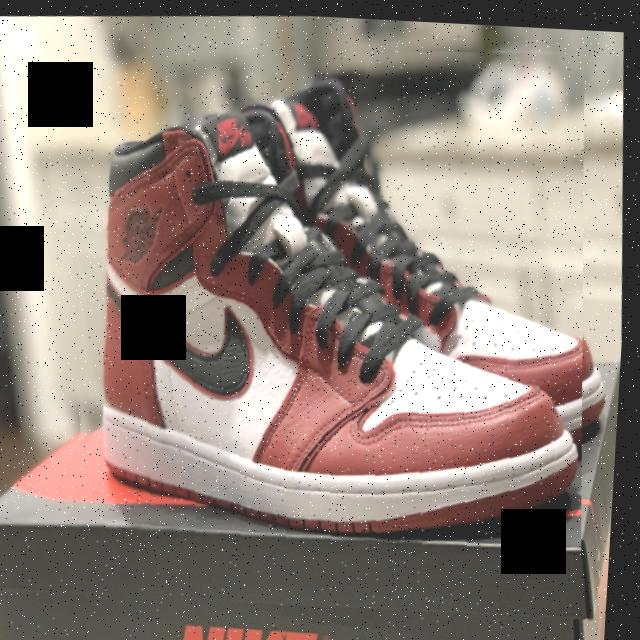shoe: (48, 16, 611, 573)
